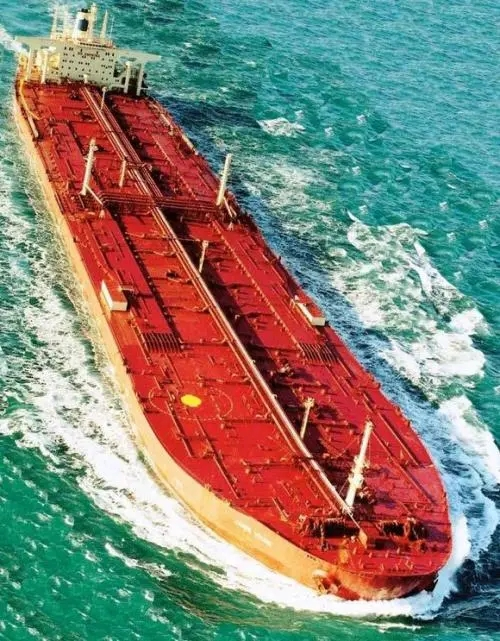Cargoship: (18, 6, 463, 608)
